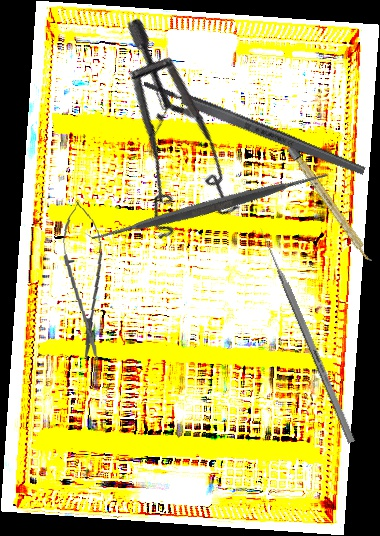Micro Scissor: (58, 199, 112, 365)
Pusher: (257, 226, 356, 444)
Scalpel Handle: (141, 76, 367, 179), (286, 144, 375, 265)
Spatula Surgical: (79, 76, 340, 337)
Speculum: (34, 13, 286, 266)
